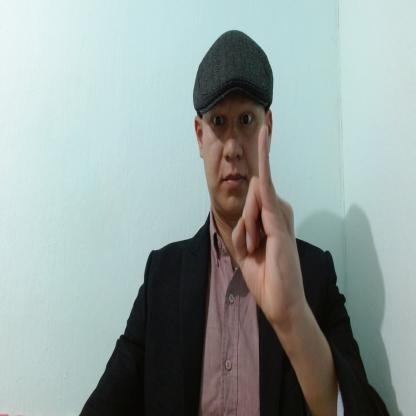I: (231, 124, 303, 321)
